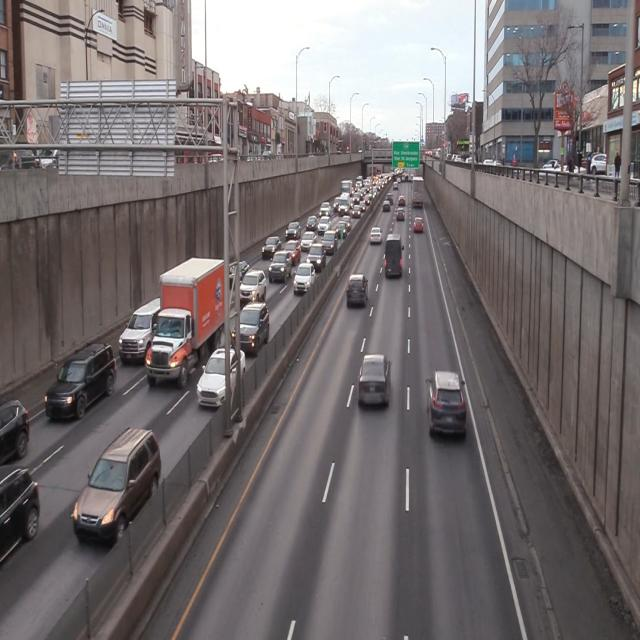Car: (73, 427, 162, 548), (146, 260, 230, 387), (45, 341, 116, 429), (197, 346, 245, 421), (427, 371, 465, 436), (117, 300, 158, 359), (357, 352, 392, 412), (233, 302, 274, 353), (239, 270, 268, 303), (346, 271, 369, 311), (384, 235, 404, 281), (370, 222, 383, 248), (412, 217, 424, 234)
